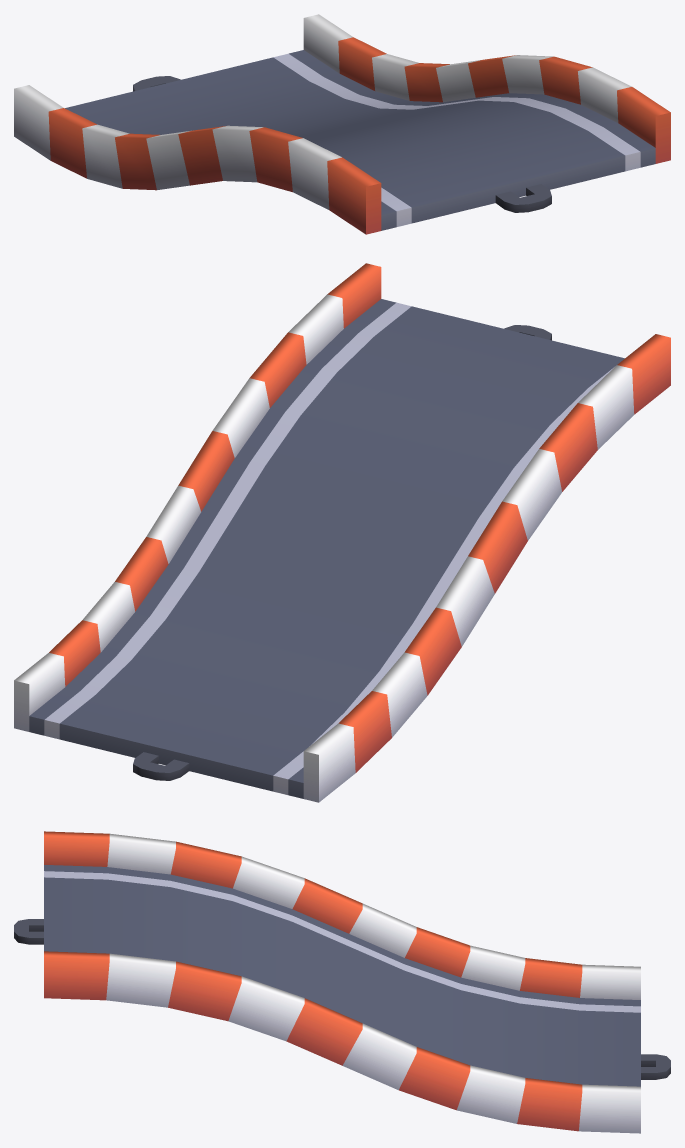
Rendered from kenney-toy-car-track-road-wide-straight-hill-complete.glb.
The picture shows the model from 3 angles, top to bottom: view 1: azimuth 30°, elevation 25°; view 2: azimuth 150°, elevation 25°; view 3: azimuth 270°, elevation 25°; orthographic projection. The views are drawn at different scales.
Parts seen in each view (by area): view 1: track-road-wide-straight-hill-complete; view 2: track-road-wide-straight-hill-complete; view 3: track-road-wide-straight-hill-complete.
Boxes of the visible parts, left/top/right/bottom form: track-road-wide-straight-hill-complete: left=14, top=14, right=670, bottom=234; track-road-wide-straight-hill-complete: left=14, top=263, right=670, bottom=802; track-road-wide-straight-hill-complete: left=14, top=831, right=670, bottom=1133.
Bounding box in the file's own units: 2 × 1.3 × 4.4.
1 material, 1 textured.
